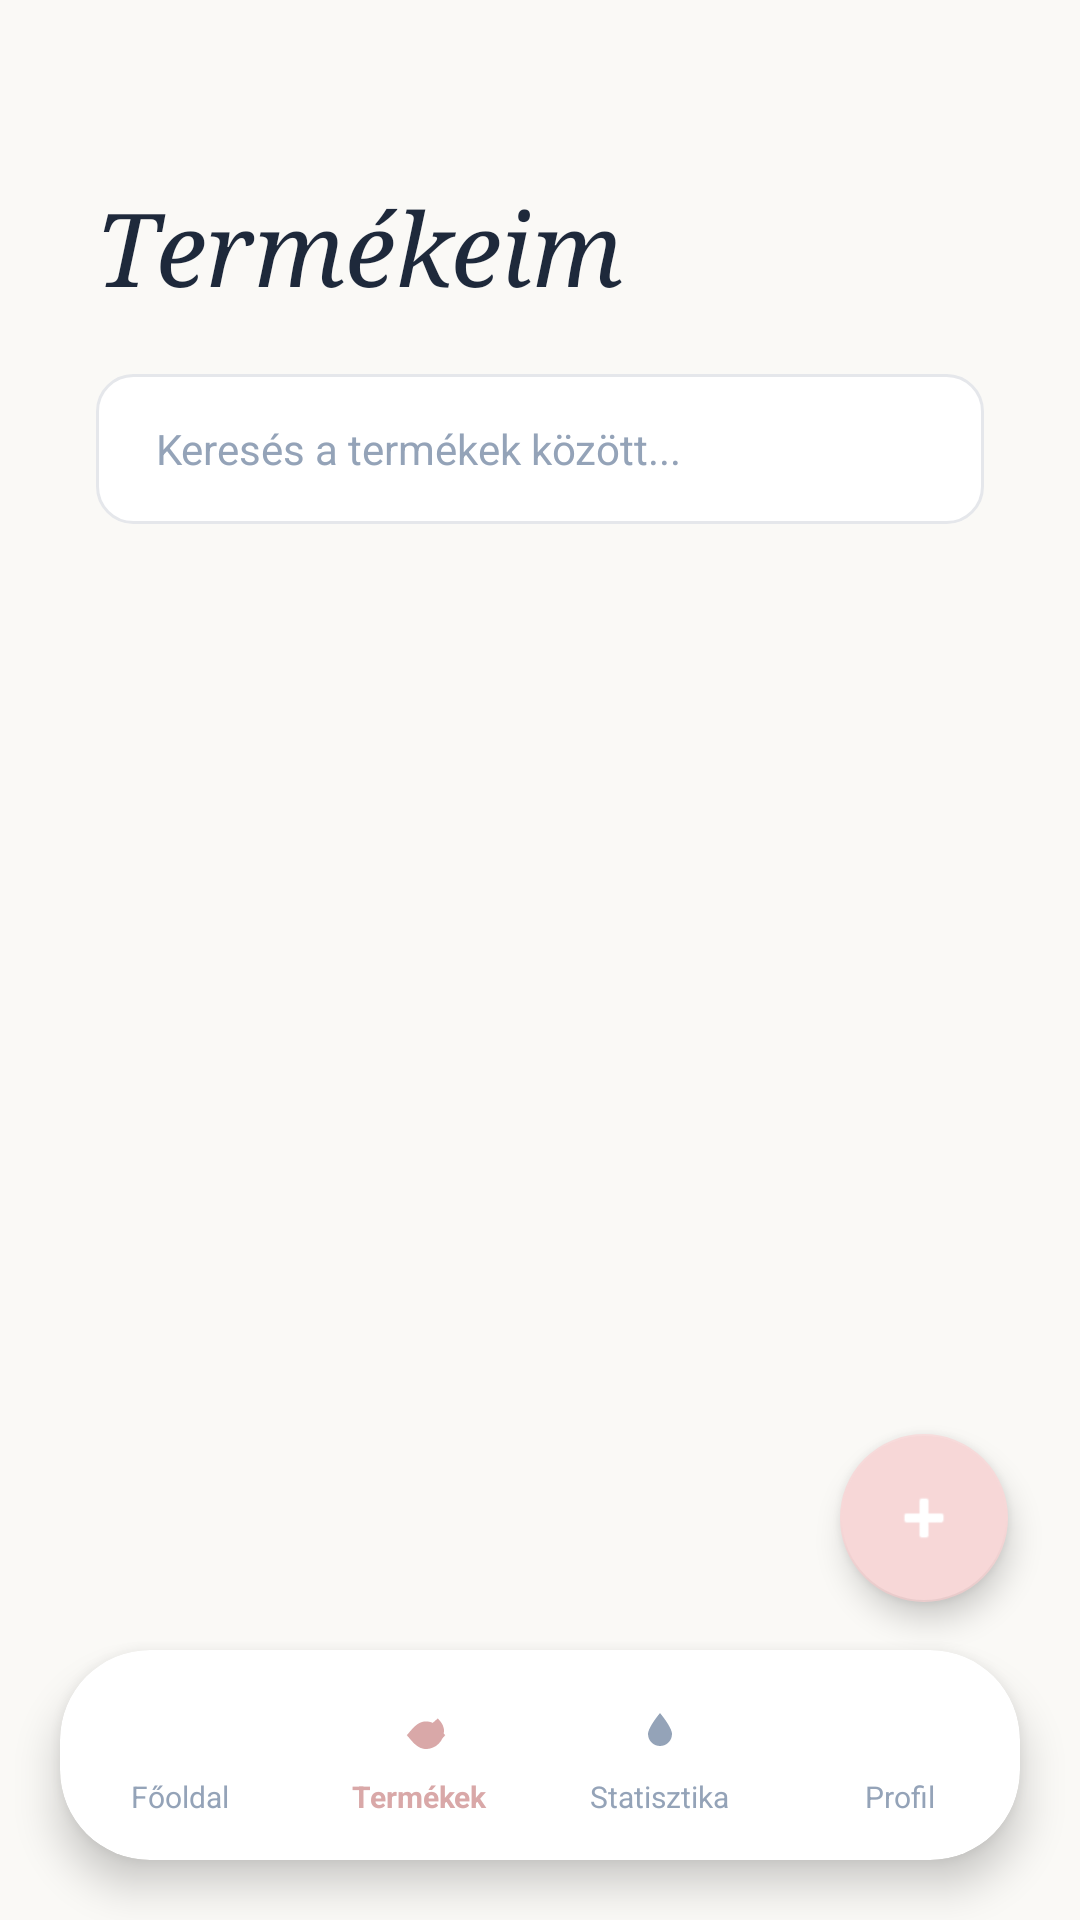

Icon bounding boxes for this 1080px x 1920px phone screenshot, format [left=x1, top=y1, right=x2, bottom=y2]:
spa: [left=407, top=1718, right=445, bottom=1749]
Termék hozzáadása: [left=840, top=1434, right=1008, bottom=1602]
